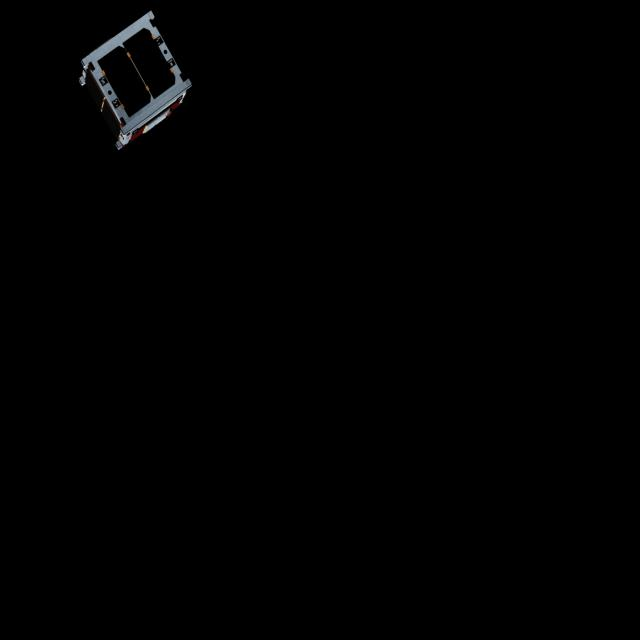medium_debris: (69, 5, 208, 161)
